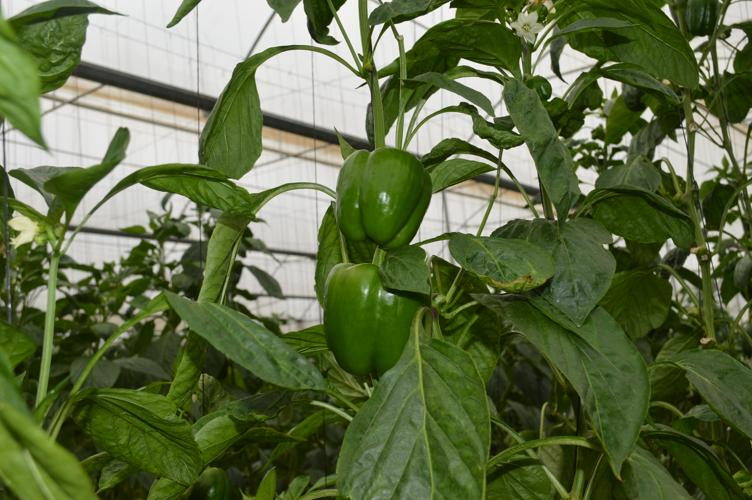BellPepper: (310, 142, 431, 251), (317, 257, 423, 380)
